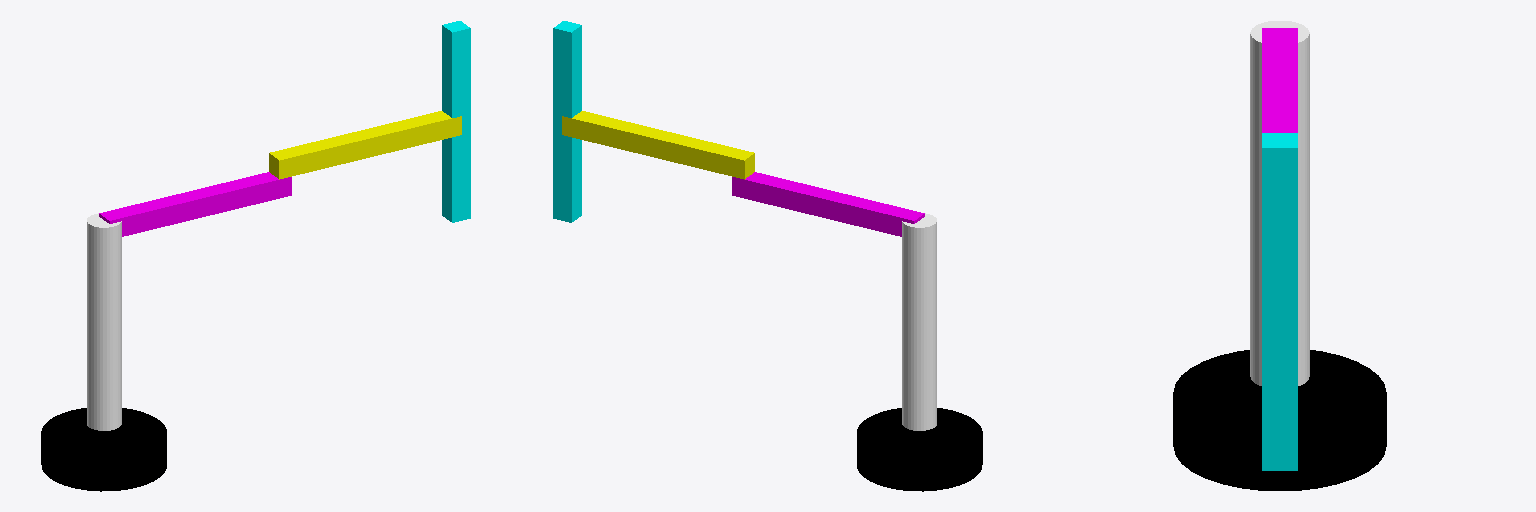
robot.urdf — Practica_1:
<robot name="Practica_1"> 
  <!--Definición de eslabones--> 
<link name = "base_link">
  <visual>
      <origin xyz = "0 0 0.05" rpy = "0 0 0"/> 
        <geometry> 
          <cylinder radius="0.09" length="0.05"/> 
        </geometry> 
        <material name = "Black"> 
        <color rgba = "0 0 0 1.0"/> 
      </material> 
    </visual> 
</link> 
 
<link name = "shoulder_link"> 
   <visual> 
      <origin xyz = "0 0 0.15" rpy = "0 0 0"/> 
    <geometry> 
      <cylinder radius="0.025" length="0.32"/> 
     </geometry> 
      <material name = "White"> 
        <color rgba = "1 1 1 1.0"/> 
      </material> 
    </visual> 
  </link> 

<link name = "arm_link"> 
   <visual> 
      <origin xyz = "0.15 0 0" rpy = "0 0 0"/> 
    <geometry> 
      <box size = "0.3 0.03 0.03"/> 
     </geometry> 
      <material name = "Magenta"> 
        <color rgba = "1 0 1 1.0"/> 
      </material> 
    </visual> 
  </link> 
<link name = "forearm_link"> 
   <visual> 
      <origin xyz = "0.15 0 0" rpy = "0 0 0"/> 
    <geometry> 
      <box size = "0.3 0.03 0.03"/> 
     </geometry> 
      <material name = "Yellow"> 
        <color rgba = "1 1 0 1.0"/> 
      </material> 
    </visual> 
  </link> 
 
 <link name = "hand_link"> 
   <visual> 
      <origin xyz = "0 0 0" rpy = "0 0 0"/> 
    <geometry> 
      <box size = "0.03 0.03 0.3"/> 
     </geometry> 
      <material name = "Cyan"> 
        <color rgba = "0 1 1 1.0"/> 
      </material> 
    </visual> 
  </link> 
 
  <!--Definició de juntas--> 

<joint name = "shoulder_joint" type = "fixed"> 
  <parent link = "base_link"/> 
  <child link = "shoulder_link"/> 
  <origin xyz = "0 0 0.1" rpy = "0 0 0"/> 
  <axis xyz = "0 0 1"/> 
  <limit effort="10.0" lower="-3.14" upper="3.14" velocity="3.14"/>
</joint>

<joint name = "arm_joint" type = "revolute"> 
  <parent link = "shoulder_link"/> 
  <child link = "arm_link"/> 
  <origin xyz = "0 0 0.3" rpy = "0 0 0"/> 
  <axis xyz = "0 0 1"/> 
  <limit effort="10.0" lower="-3.14" upper="3.14" velocity="3.14"/>
</joint>
<joint name = "forearm_joint" type = "revolute"> 
  <parent link = "arm_link"/> 
  <child link = "forearm_link"/> 
  <origin xyz = "0.28 0 0.03" rpy = "0 0 0"/> 
  <axis xyz = "0 0 1"/> 
  <limit effort="10.0" lower="-3.14" upper="3.14" velocity="3.14"/>
</joint>
<joint name = "hand_joint" type = "prismatic"> 
  <parent link = "forearm_link"/> 
  <child link = "hand_link"/> 
  <origin xyz = "0.3 0 0" rpy = "0 0 0"/> 
  <axis xyz = "0 0 1"/> 
  <limit effort="10.0" lower="-0.15" upper="0.15" velocity="3.14"/>
</joint>

</robot>

--- Facts derived from the render (not from the file) ---
Views: 3 orthographic renders of the robot side by side, from view 1: azimuth 30°, elevation 25°; view 2: azimuth 150°, elevation 25°; view 3: azimuth 270°, elevation 25°.
Robot: Practica_1 — 5 links, 4 joints (2 revolute, 1 prismatic, 1 fixed); root link base_link; default pose: every joint at zero.
Links seen in each view (by area): view 1: base_link, shoulder_link, forearm_link, hand_link, arm_link; view 2: base_link, shoulder_link, forearm_link, hand_link, arm_link; view 3: base_link, hand_link, shoulder_link, arm_link.
Link boxes in pixels (x1,y1,x2,y2): base_link: (41, 408, 166, 491); shoulder_link: (87, 213, 121, 430); forearm_link: (269, 111, 461, 179); hand_link: (442, 21, 470, 222); arm_link: (99, 172, 291, 236); base_link: (857, 408, 982, 491); shoulder_link: (902, 213, 936, 430); forearm_link: (562, 111, 754, 179); hand_link: (553, 21, 581, 222); arm_link: (732, 172, 924, 236); base_link: (1173, 350, 1386, 490); hand_link: (1262, 133, 1297, 470); shoulder_link: (1250, 21, 1309, 385); arm_link: (1262, 28, 1297, 132).
Bounding box of the posed robot: 0.685 × 0.18 × 0.555 m (x, y, z).
Geometry: primitives only (box / cylinder / sphere), no mesh files.
